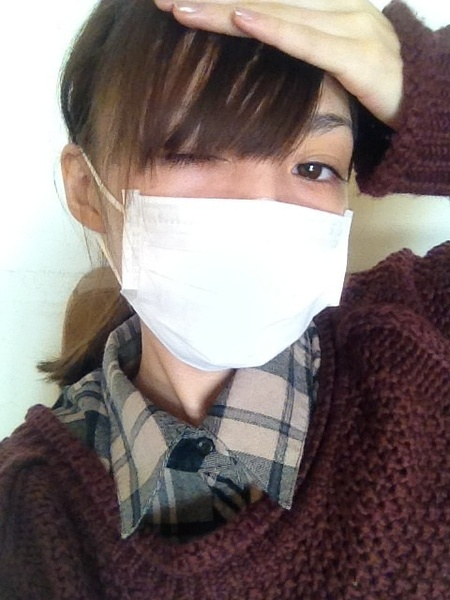face_mask: (125, 12, 357, 366)
